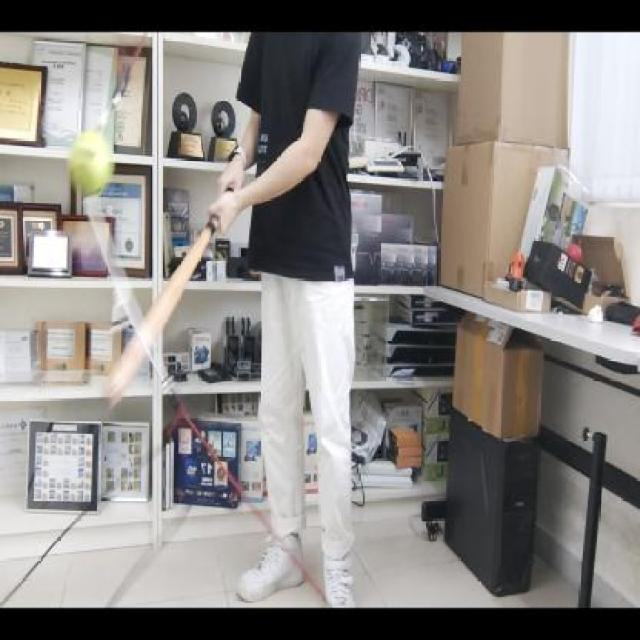baseball: (66, 127, 111, 198)
